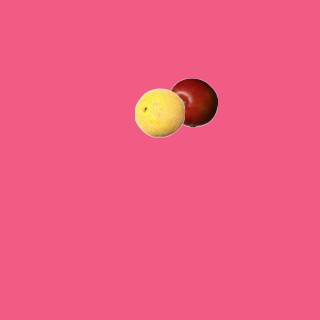Apple Braeburn: (167, 77, 217, 127)
Cantaloupe 1: (134, 87, 184, 137)
